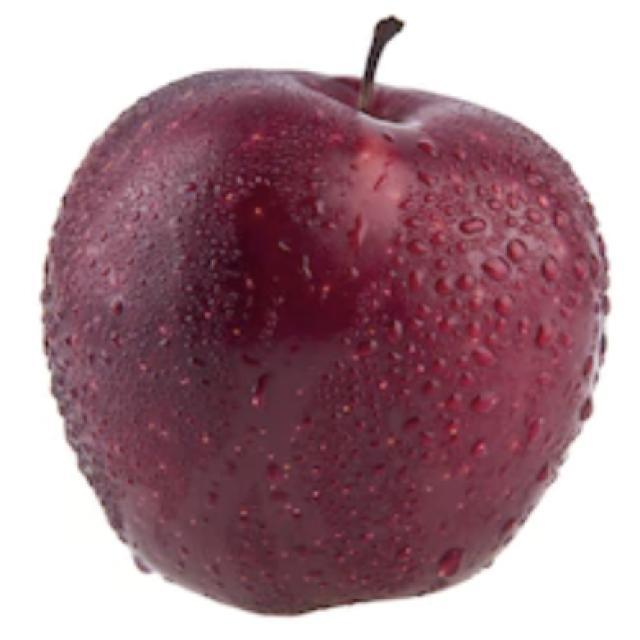Apple: (39, 14, 611, 616)
